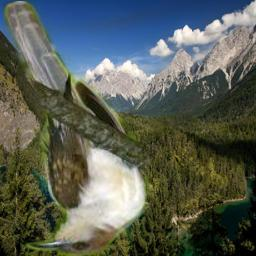Cuckoo: (3, 1, 149, 256)
